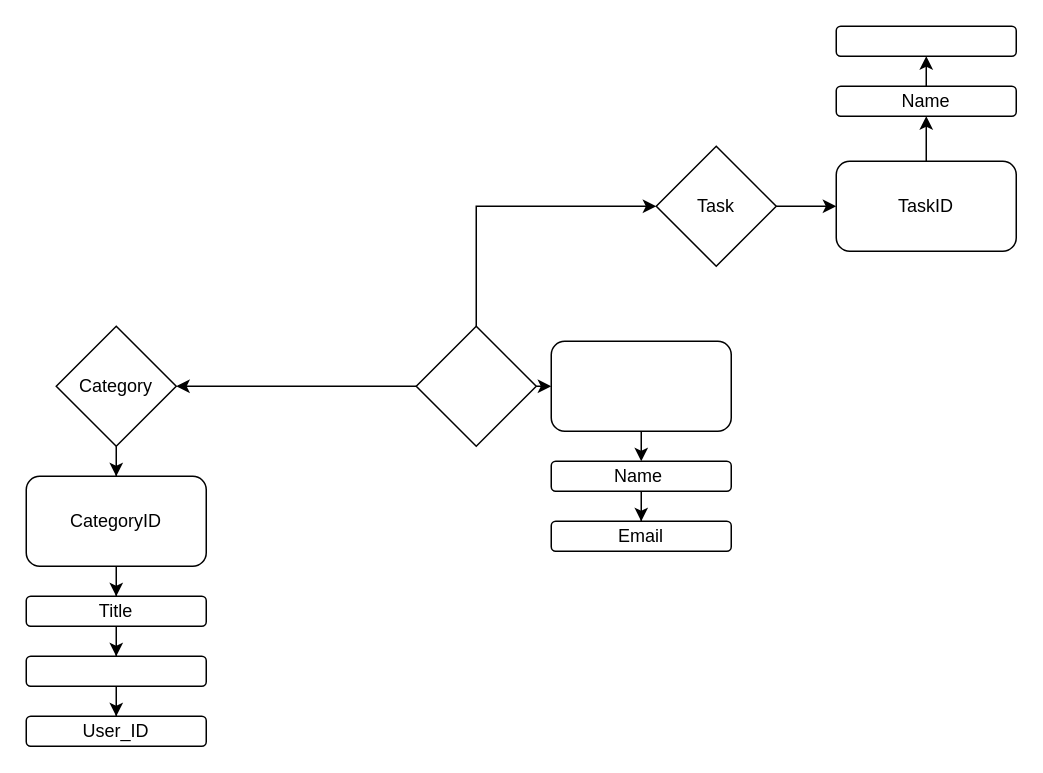
The diagram is 1043 pixels wide and 773 high, and some of its shapes have lost their labels. The shapes that lost their labels are listed below. From the top down, each one's centre as x and y in pixels, then its label:
the point at 925,40: Color
the point at 475,385: user
the point at 640,385: UserID
the point at 115,670: Category_ID
